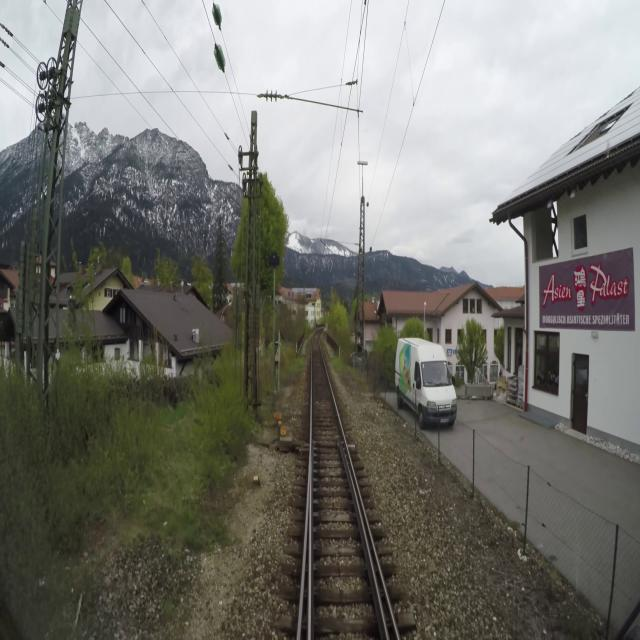rail-track: (312, 332, 385, 639), (383, 593, 396, 639), (302, 583, 306, 639)
